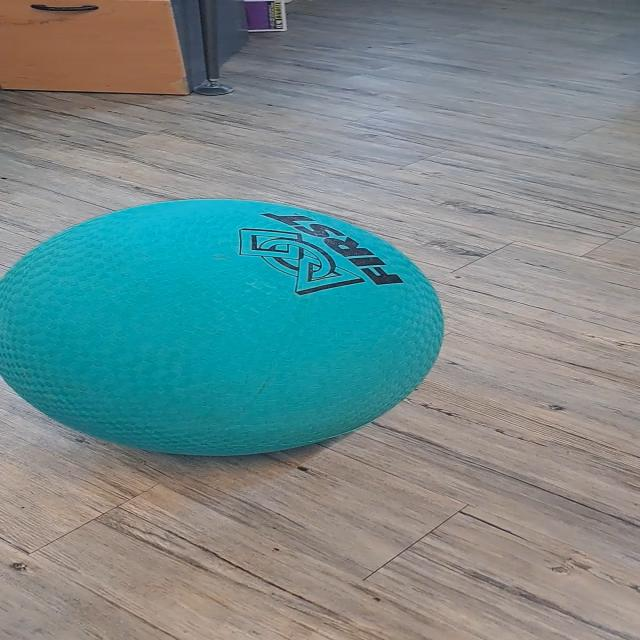ALGAE: (1, 197, 445, 457)
